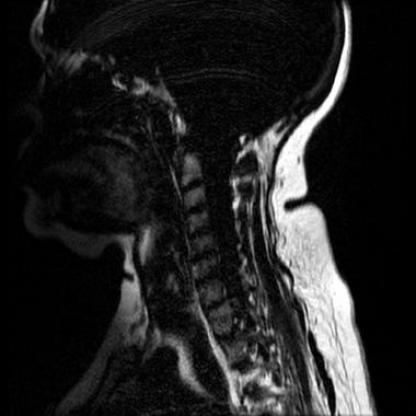Disc Protrusionrotation: (186, 225, 214, 240), (189, 250, 218, 263), (182, 202, 208, 216), (195, 274, 222, 287)
Osteophytesrotation: (182, 202, 209, 217), (187, 225, 214, 240), (195, 273, 222, 287), (189, 250, 218, 263)
